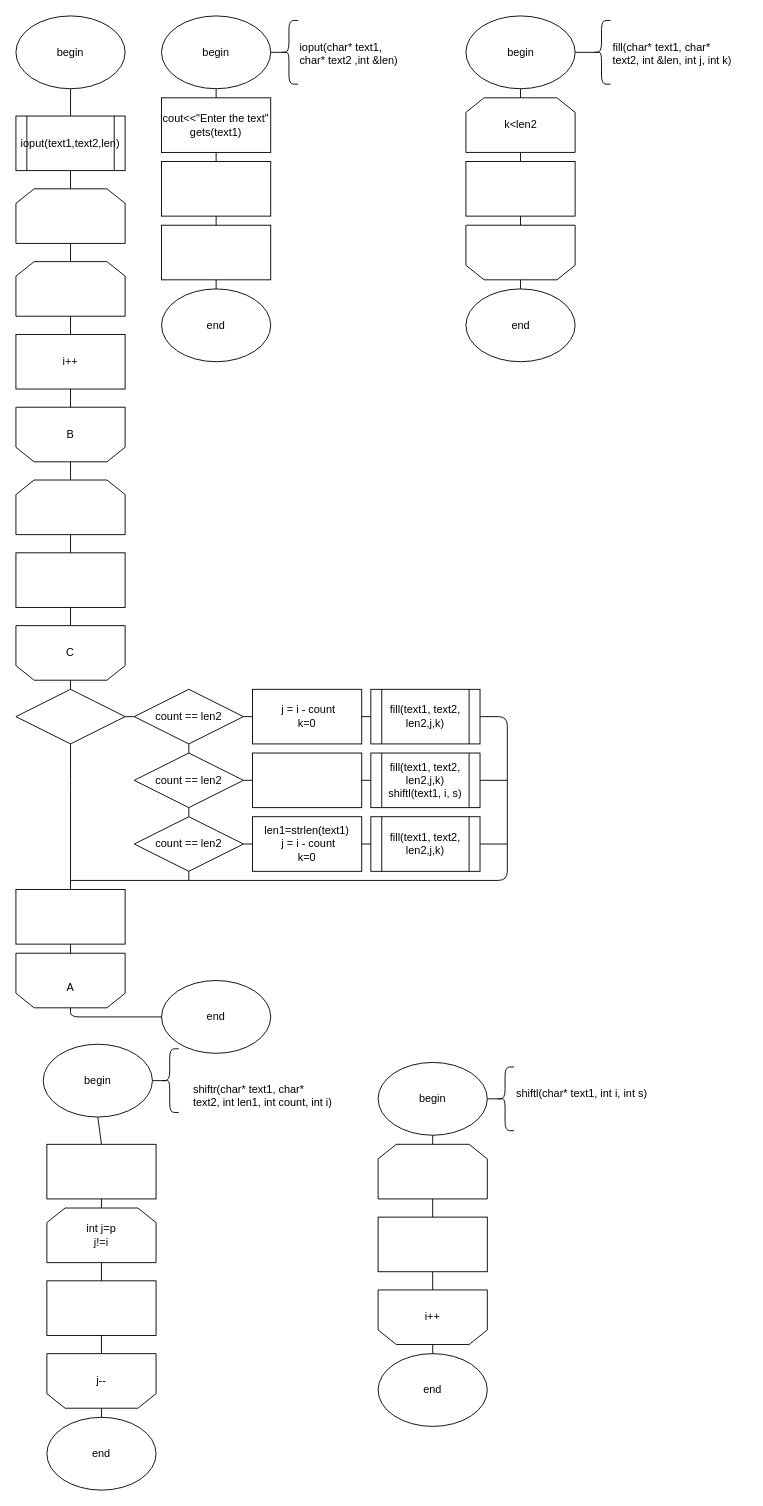
Image size: 763x1506. Some labels were removed from this diagram. Here are the shapes that lost their labels. From the top down, the centre of each, then its label:
the point at 216,188: cout<<"Enter the lengh of the word you'd like to replacr" cin>>len
the point at 520,188: text1[j]=text2[k] j++ k++
the point at 70,215: A text[i] != '\0'
the point at 216,252: cout<< "Enter the string to replace with" cin.ignore() gets(text2);
the point at 70,288: B text[i] != ' '
the point at 70,507: C text[i] != ' '
the point at 70,579: count++
the point at 70,716: count == len
the point at 307,780: j = i - count k=0 s=count-len2
the point at 70,916: puts(text1);
the point at 101,1171: p=len1=len2-count
the point at 432,1171: text1[i-s] != '\0'
the point at 432,1244: text1[i-s]=text1[i]
the point at 101,1307: text1[j]=text1[j-len2+count]
